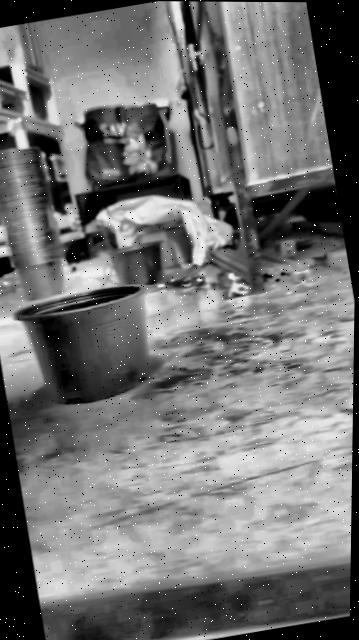pot: (10, 279, 161, 412)
